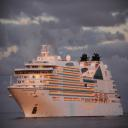cruises: (8, 45, 125, 121)
